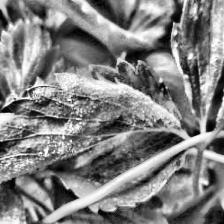Powdery Mildew Leaf: (0, 57, 189, 197), (48, 131, 194, 214), (170, 0, 224, 124)
